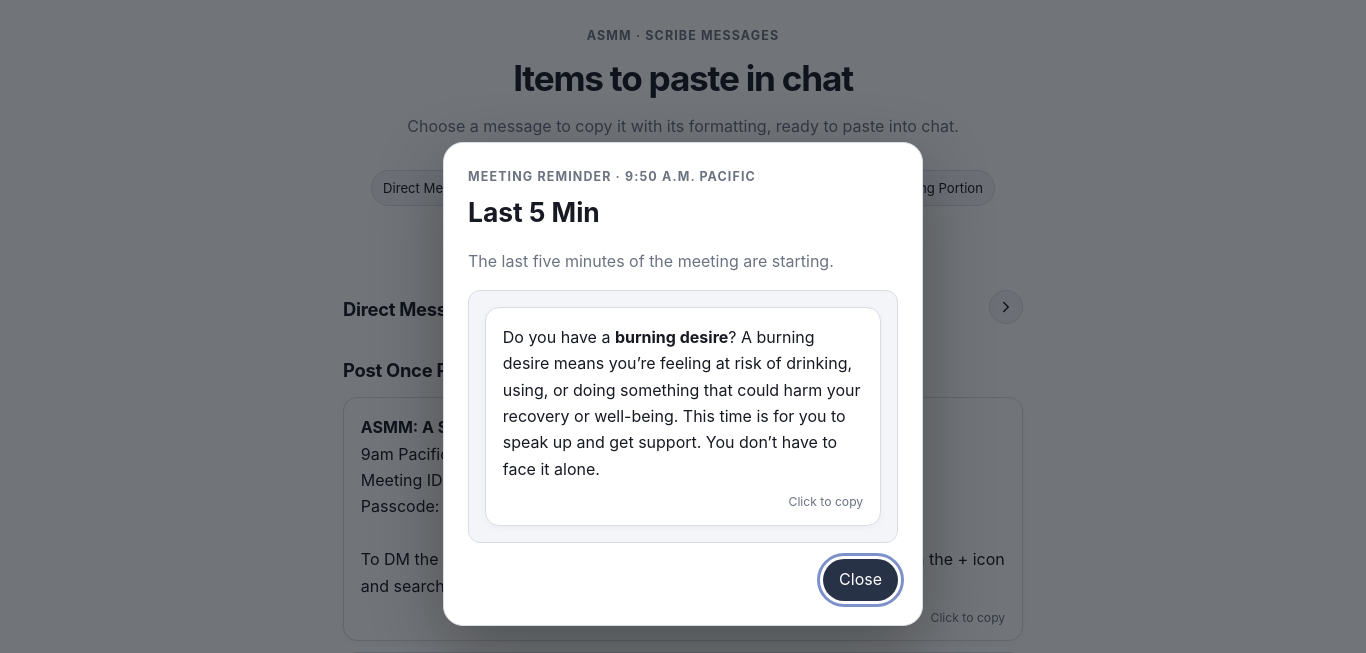
Scenario: app journeys › opens and closes the meeting reminder
expect the dialog is shown: met, box [443, 142, 923, 626]
What coordinates should you click on to do the following:
click the button "Close"
I would click on:
 (861, 580)
Its box is [823, 558, 898, 601].
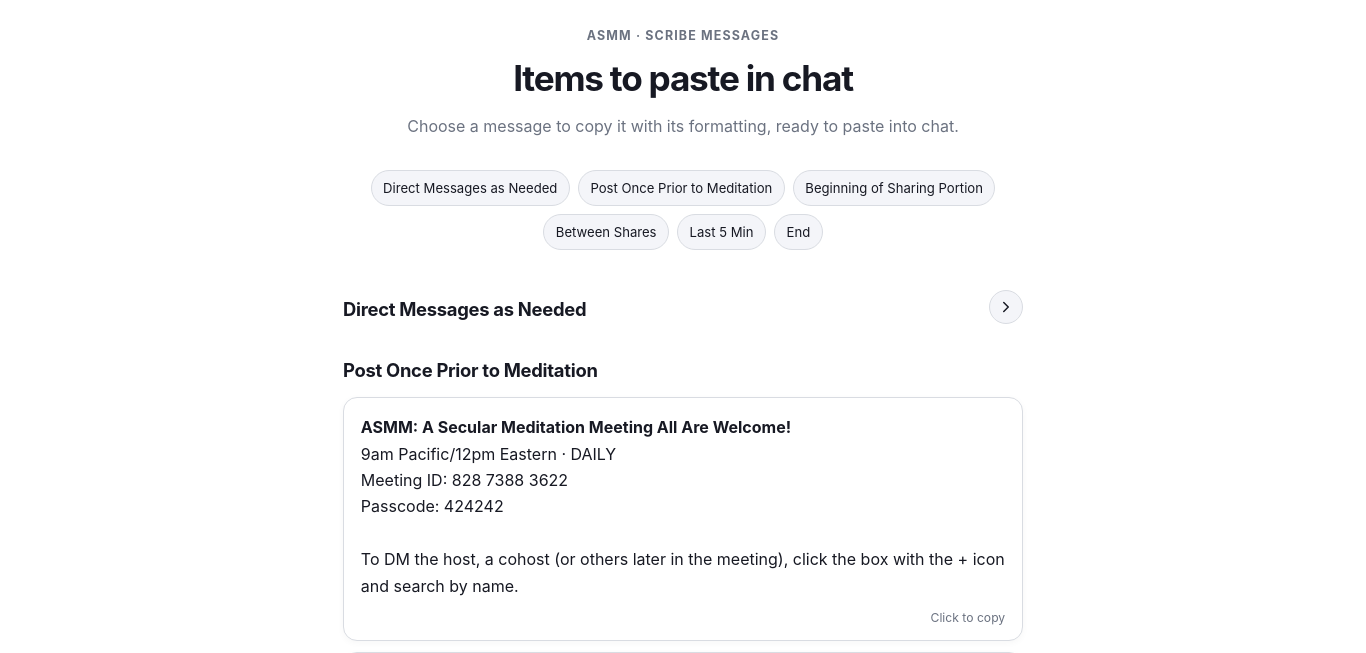
expect the dialog is gone: met
